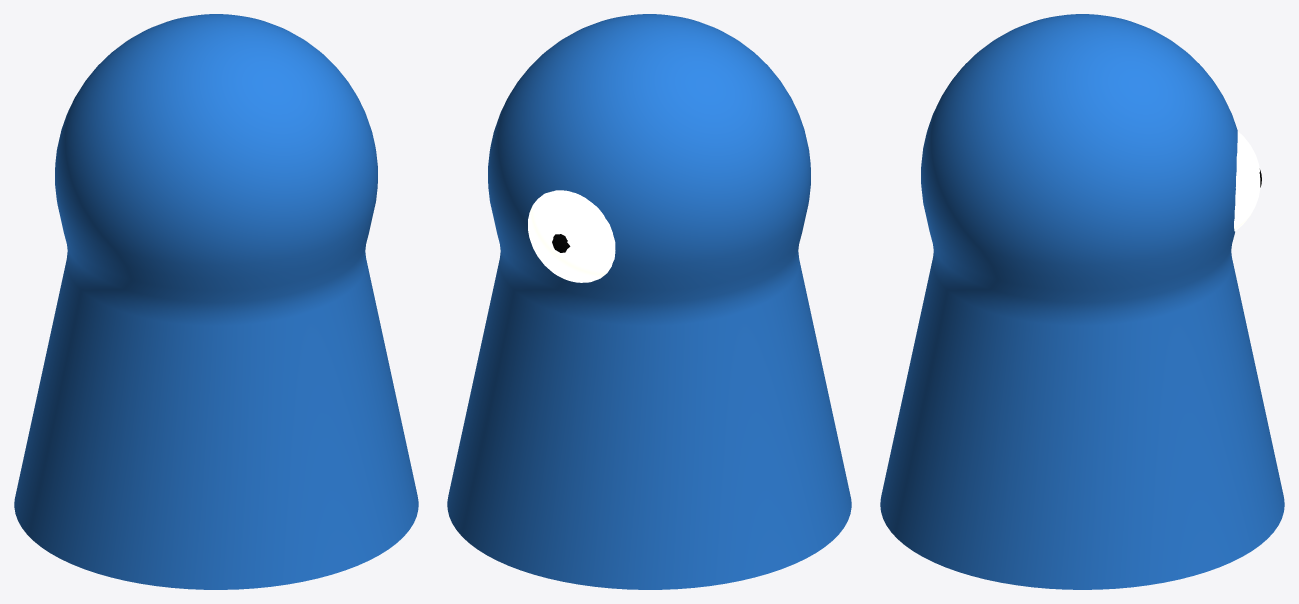
File: ghost.glb
3 renders of one model, left to right at view 1: azimuth 30°, elevation 25°; view 2: azimuth 150°, elevation 25°; view 3: azimuth 270°, elevation 25°, orthographic.
Visible parts, largest first — view 1: Ghost; view 2: Ghost, Eye; view 3: Ghost, Eye.
Boxes of the visible parts, x1,y1,x2,y2 form: Ghost: (14,14,418,589); Ghost: (447,14,851,589); Eye: (528,190,615,282); Ghost: (880,14,1284,589); Eye: (1234,131,1260,231).
Size of the model in its own units: 2.97 by 3.85 by 2.97.
